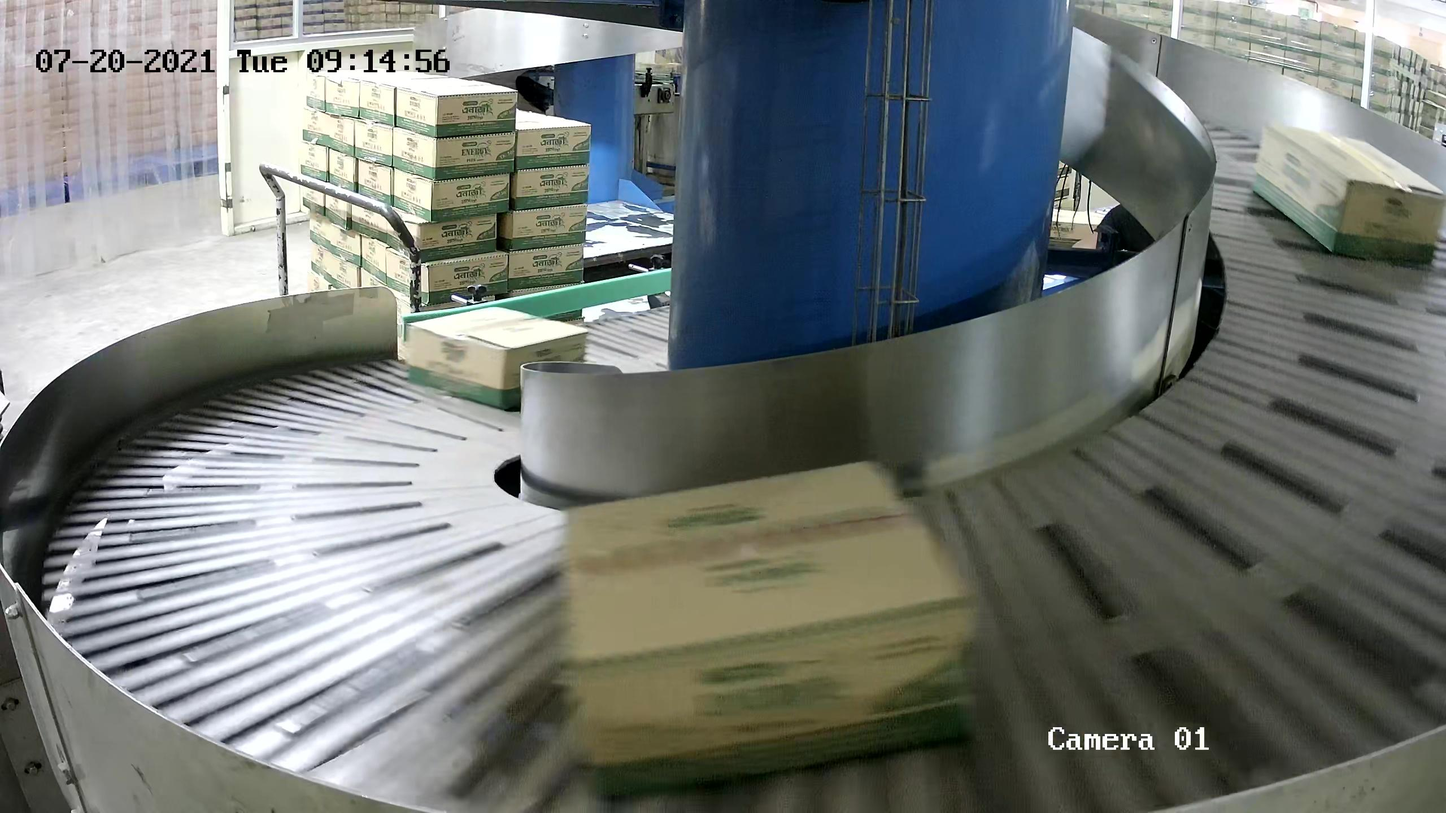Box: (559, 460, 980, 805), (1250, 121, 1446, 266), (405, 306, 588, 410)
